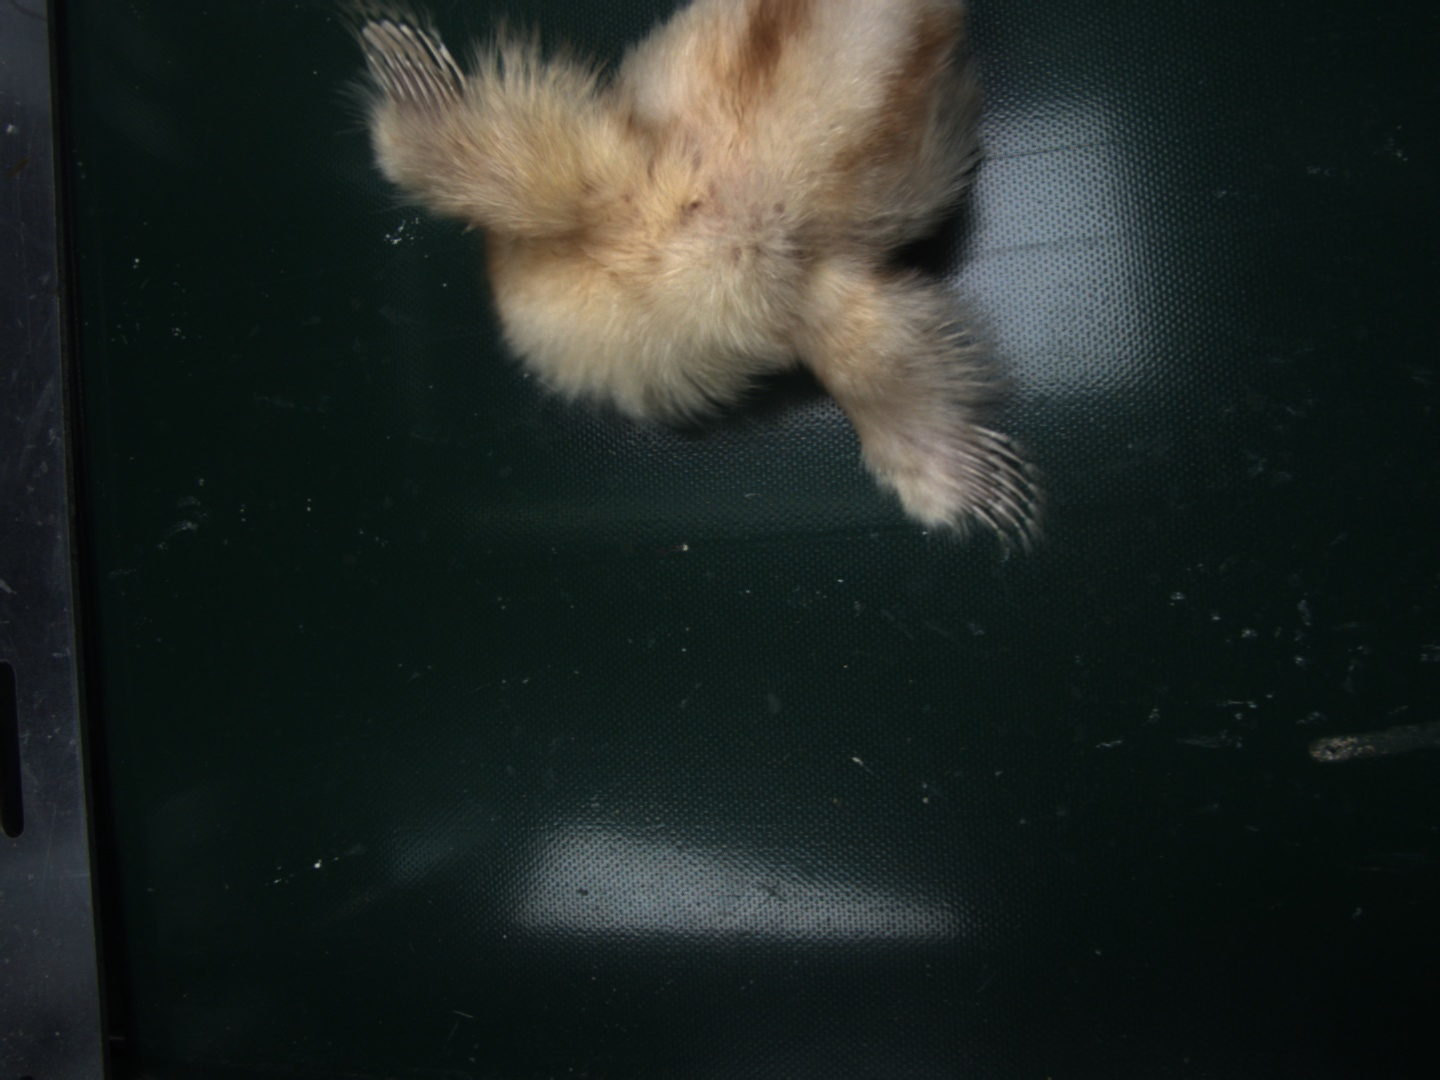female: (943, 424, 1028, 535)
